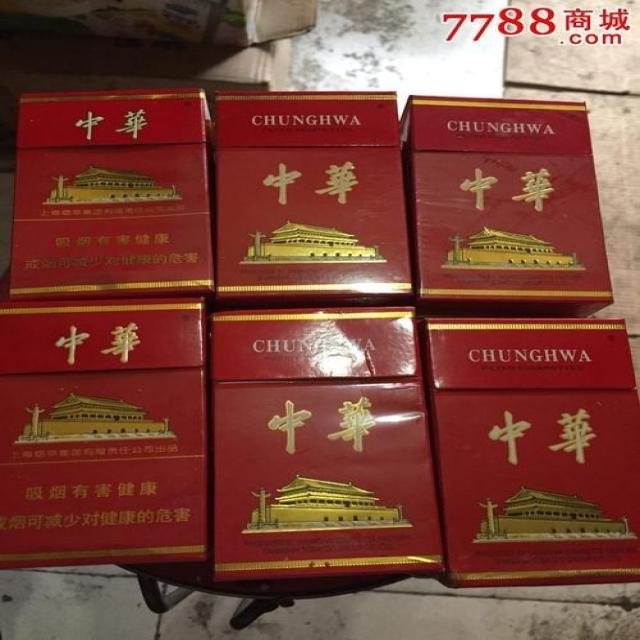box: (212, 306, 444, 581), (421, 319, 640, 589), (0, 298, 210, 568), (401, 94, 614, 318), (8, 88, 214, 301), (216, 90, 415, 297)
